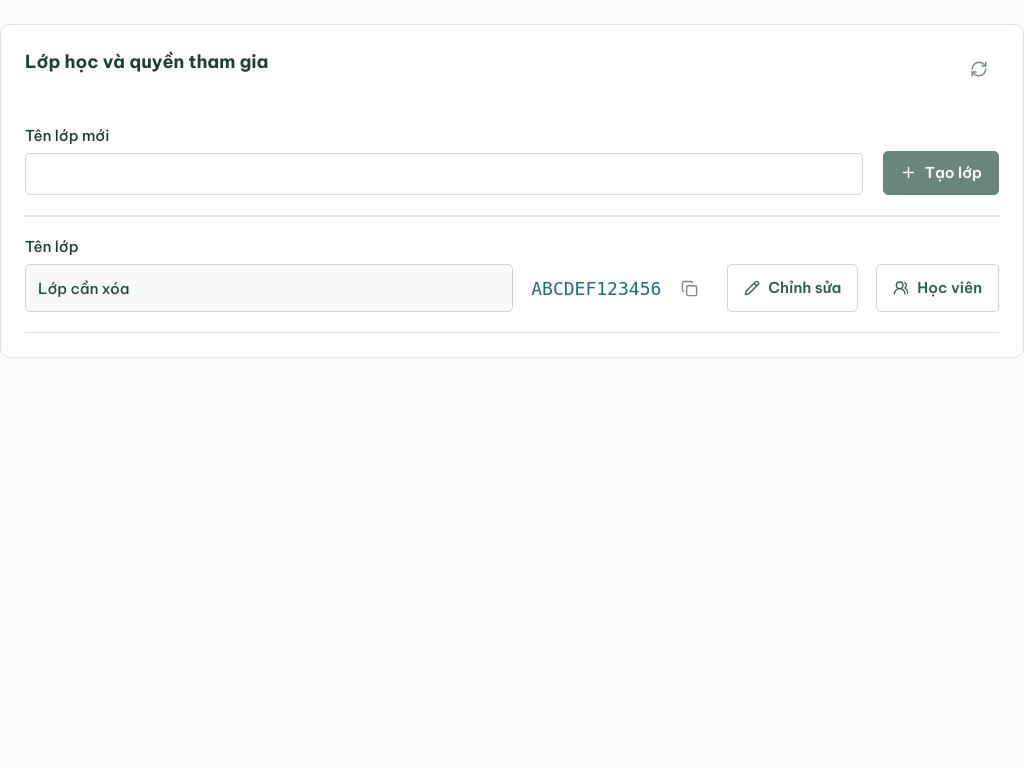
Test: deletes a class only after confirmation and removes its row
This screenshot has width=1024, height=768.
Step 1. Click the button with aria-label "Chỉnh sửa lớp Lớp cần xóa" → (793, 288), box [727,264,858,312]
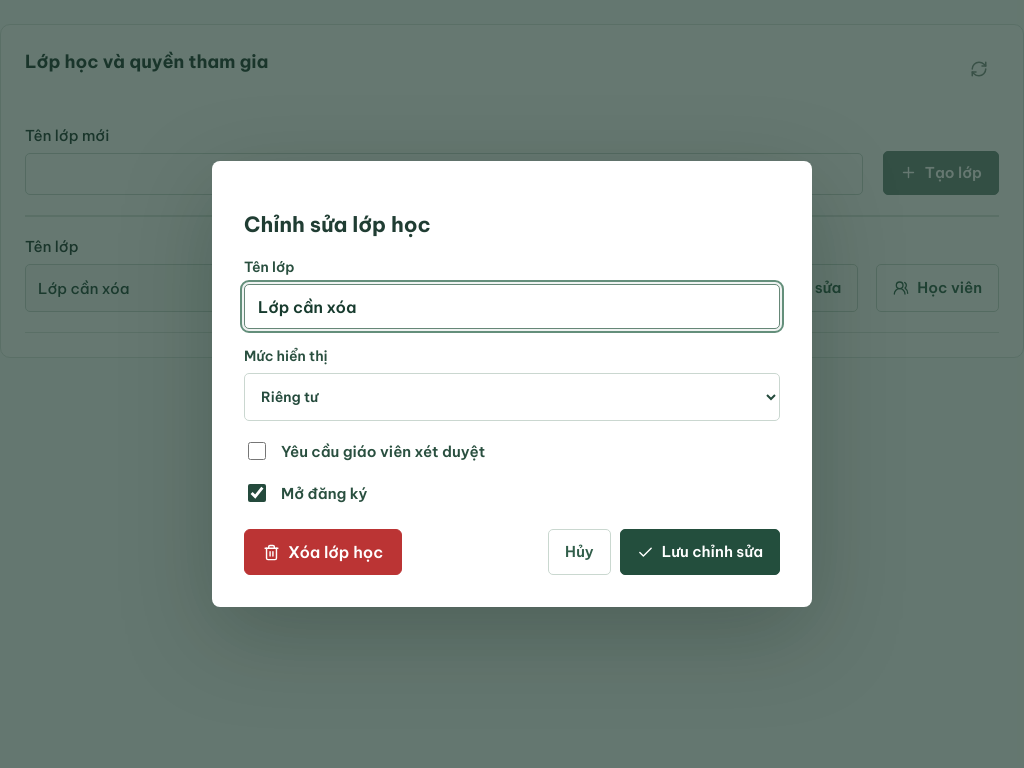
Step 2. Click the button "Xóa lớp học" → (323, 552), box [244,529,402,575]
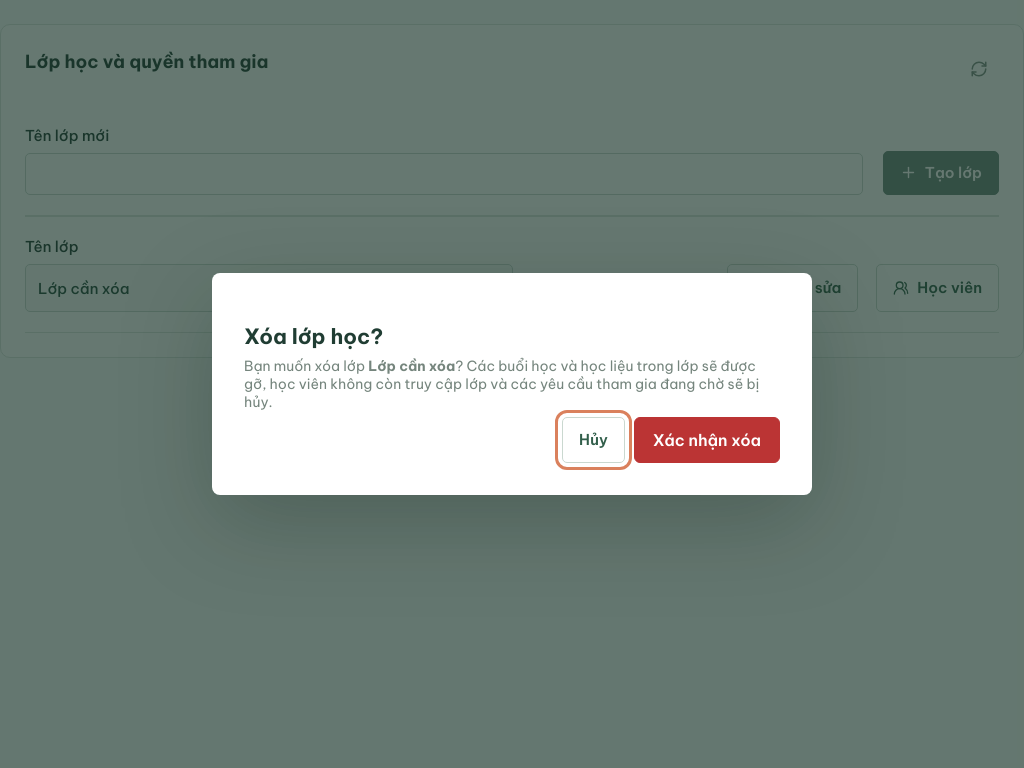
Now the dialog "Xóa lớp học?" is shown, box [212,273,812,495]
Step 3. Click the button "Xác nhận xóa" → (707, 440), box [634,417,780,463]
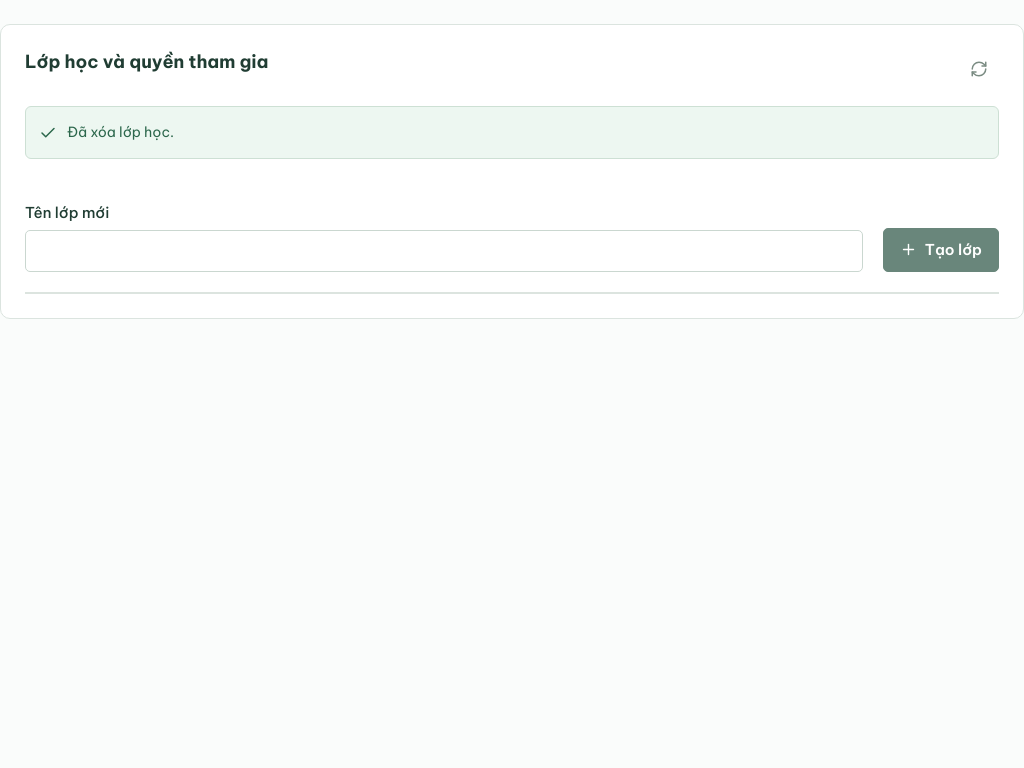
Now the dialog is gone
Now the text "Lớp cần xóa" is gone
